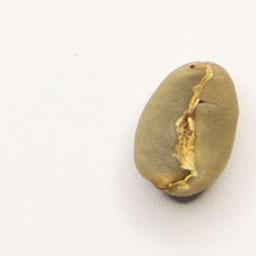premium: (131, 58, 242, 199)
